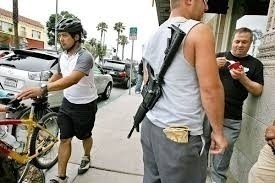pistol: (125, 21, 189, 142)
